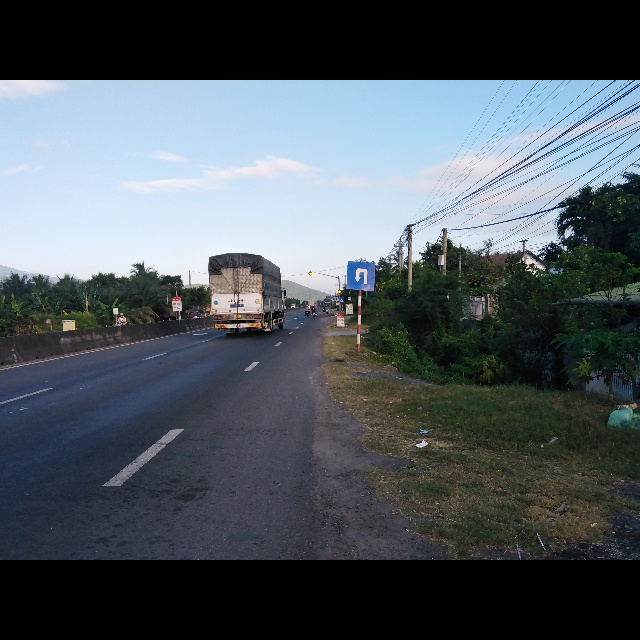Khu vực quay đầu xe: (347, 259, 375, 290)
